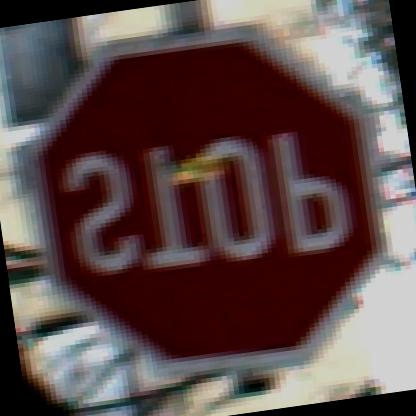stop: (2, 0, 409, 387)
